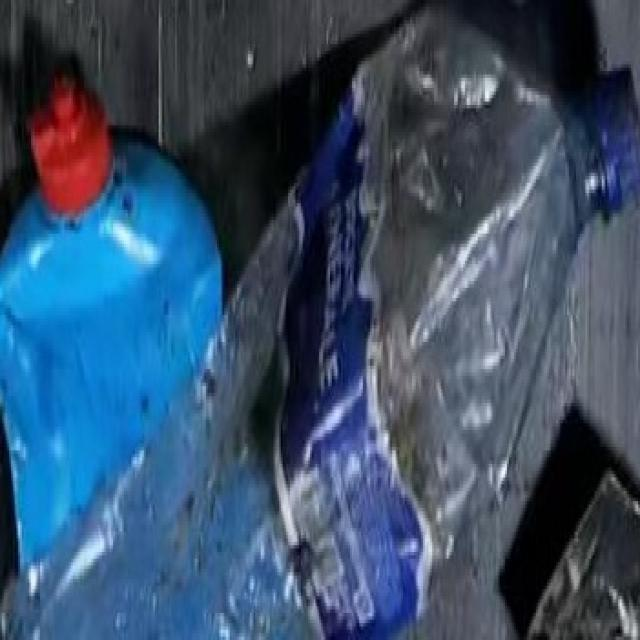plasticbottle: (0, 43, 640, 546), (0, 0, 286, 640)
